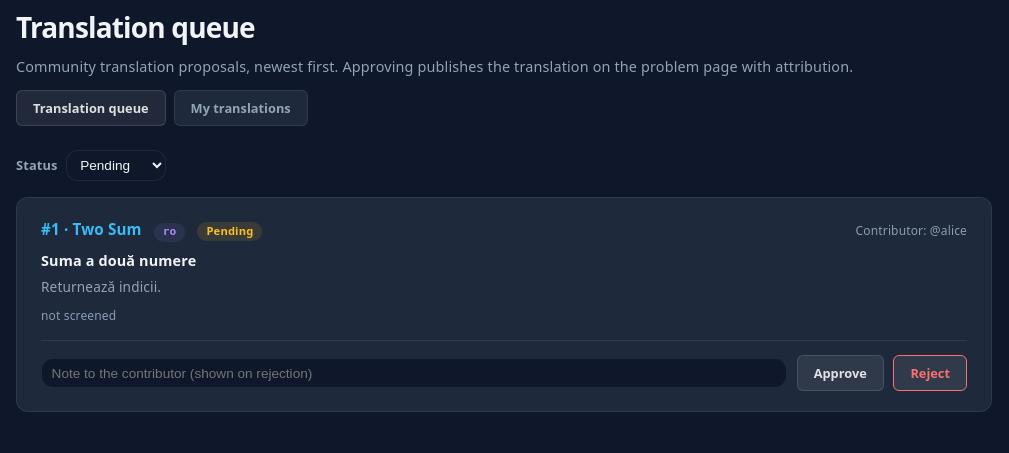
Scenario: TranslationsPage › reject sends the reviewer note
In the field with test id "reject-note-input": (414, 373) [41,358,787,388], type "Keep the math notation."
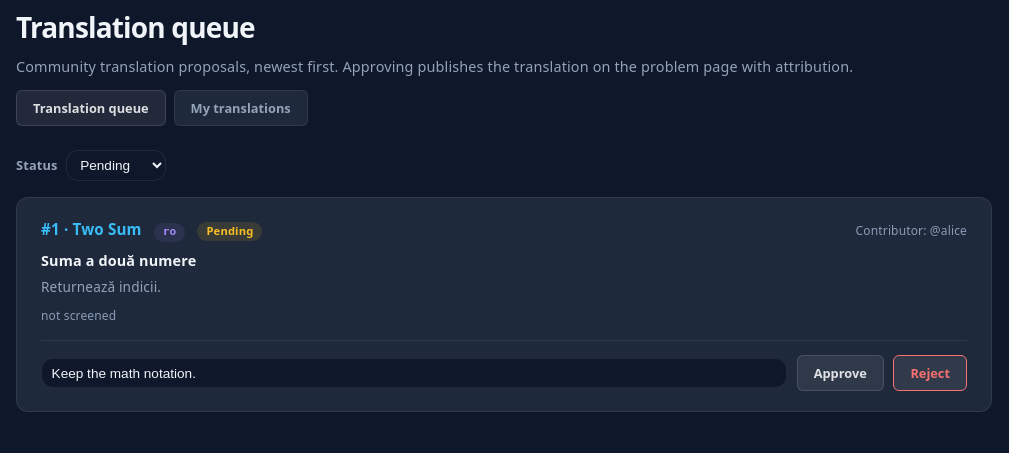
Click the button with test id "reject-btn": (930, 373) [893,355,967,391]
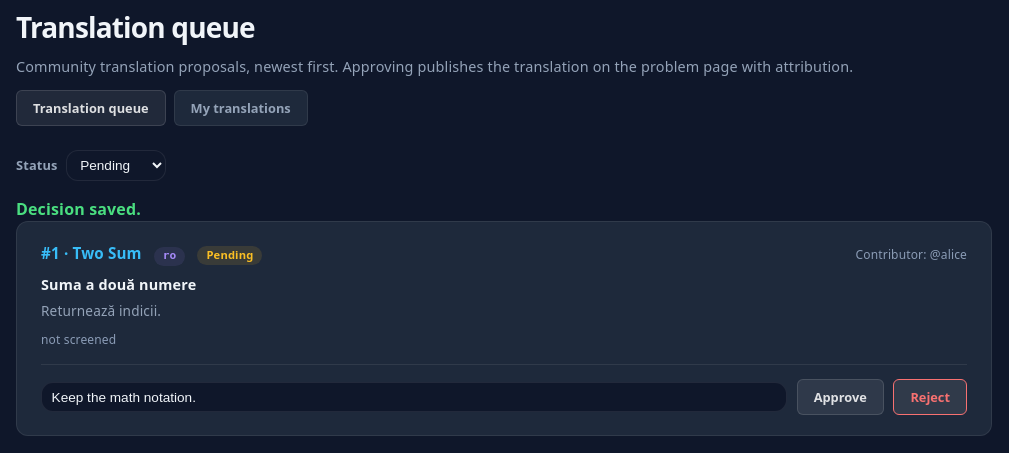
Result: the message "Decision saved." is shown at [16,198,141,220]
